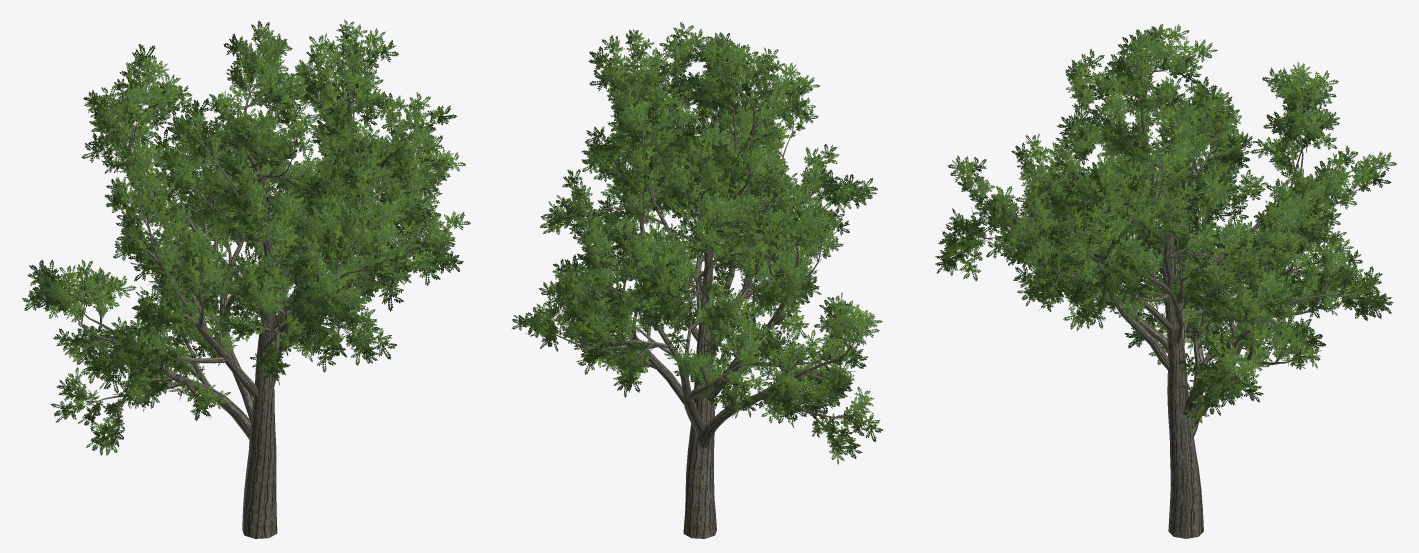
The model's file is ash_large_01.glb.
3 renders of one model, left to right at view 1: azimuth 30°, elevation 25°; view 2: azimuth 150°, elevation 25°; view 3: azimuth 270°, elevation 25°, orthographic. The views are drawn at different scales.
Parts seen in each view (by area): view 1: Tree; view 2: Tree; view 3: Tree.
Boxes of the visible parts, x1,y1,x2,y2 form: Tree: (22,19,470,538); Tree: (512,21,882,538); Tree: (935,23,1396,538).
Size of the model in its own units: 71.29 by 95.81 by 82.1.
Materials: 2 (2 with a texture image).
